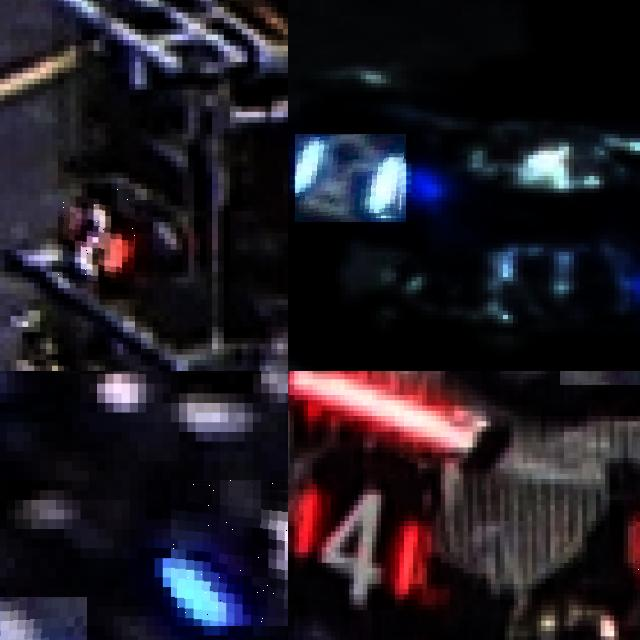B3: (171, 480, 288, 625)
Bs: (295, 134, 406, 222)
R2: (58, 189, 135, 283)
R4: (290, 463, 427, 605)
